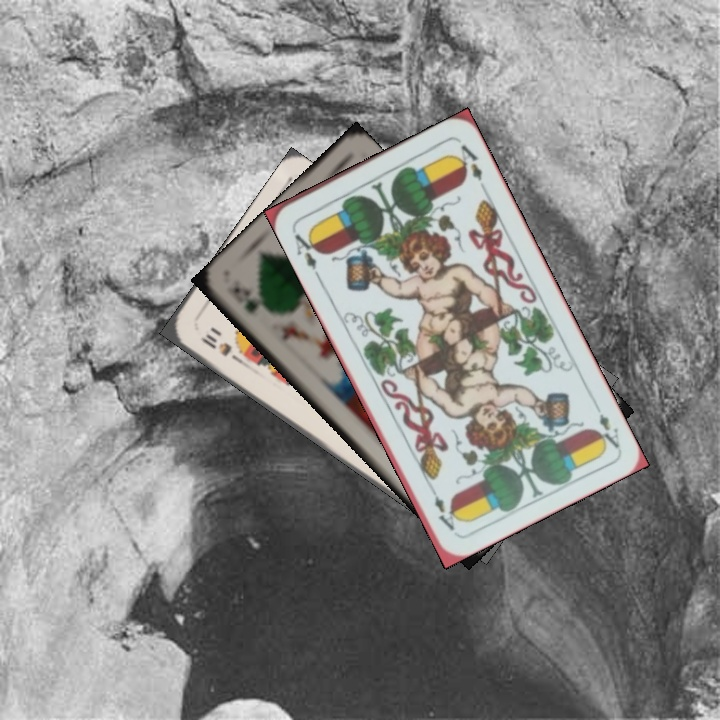EA: (287, 224, 323, 279), (589, 397, 622, 453)
GK: (229, 283, 261, 317)
S10: (196, 329, 244, 365)
